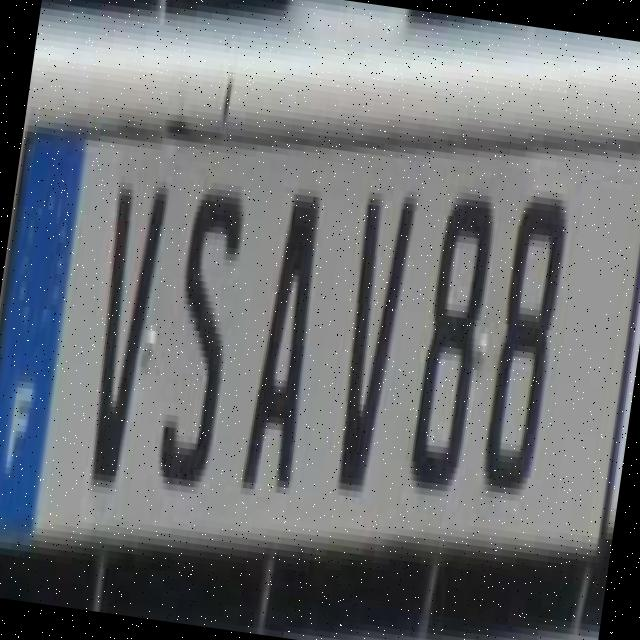EU: (0, 137, 640, 555)
France: (0, 134, 87, 535)
